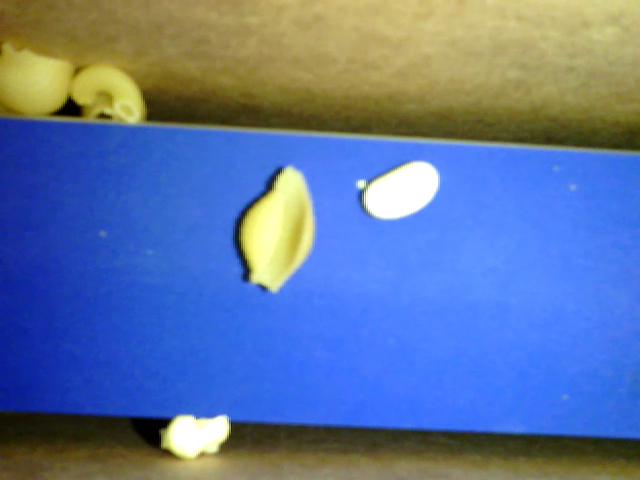elbow: (71, 63, 144, 123)
shell: (238, 166, 315, 295), (1, 48, 76, 117)
